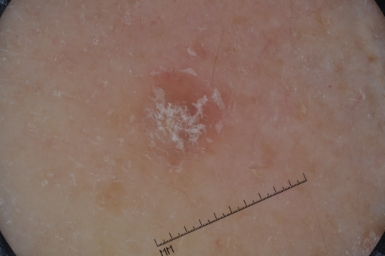seborrheic keratosis: (111, 50, 244, 182)
